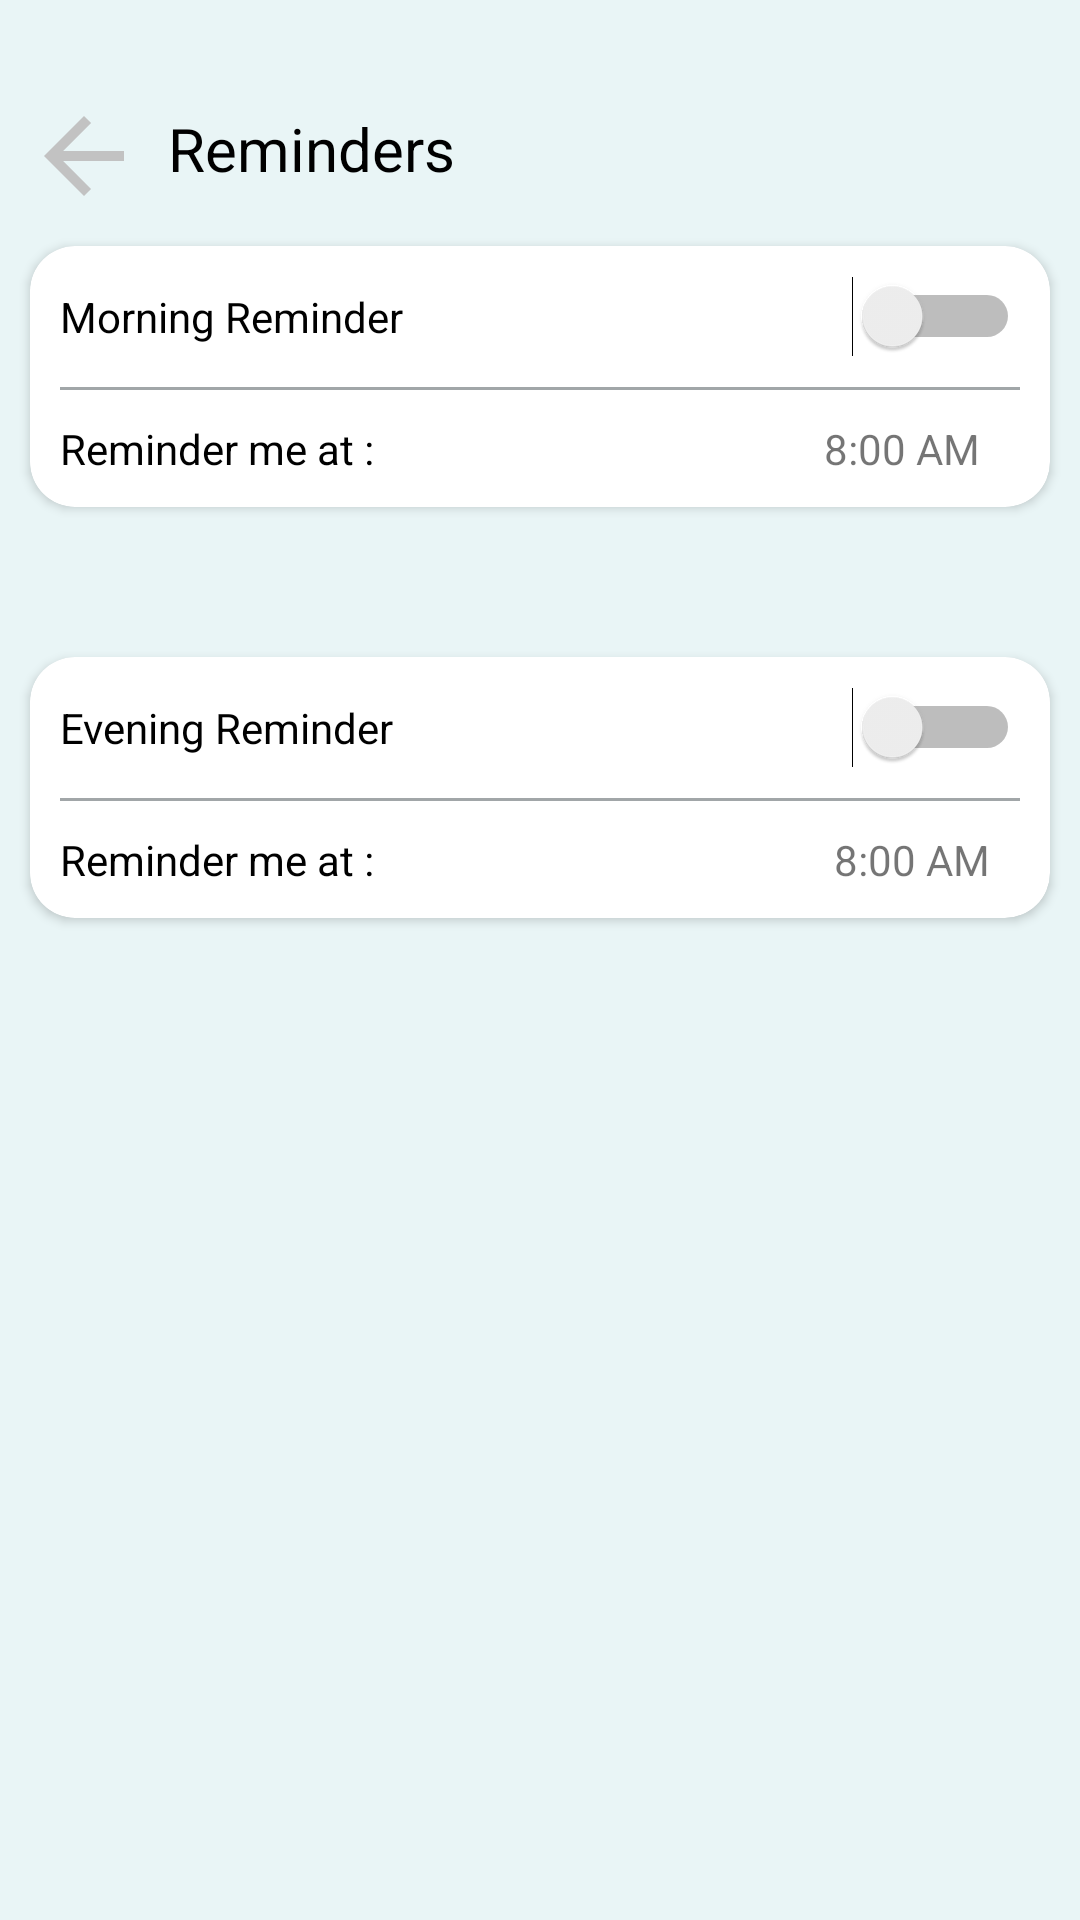

Named icons in this screenshot (1080 x 1920) and their centers, (x=x, y=y):
arrow back: (x=84, y=156)
